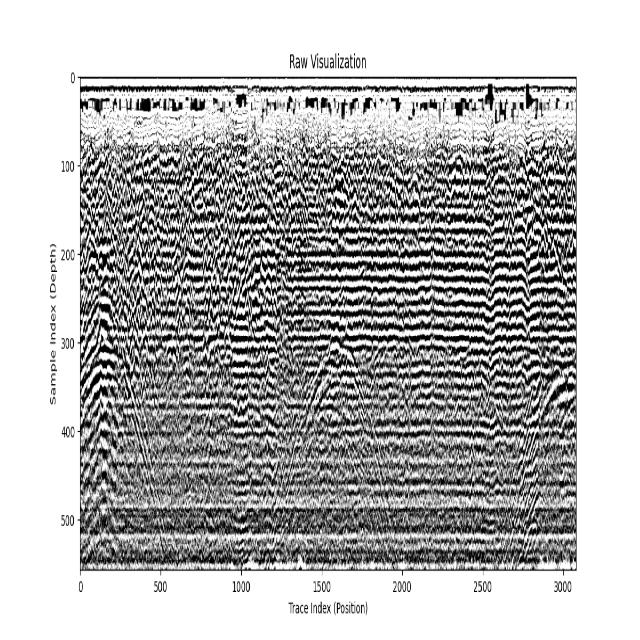anomaly: (279, 308, 400, 562), (81, 258, 167, 573), (497, 350, 575, 558)
